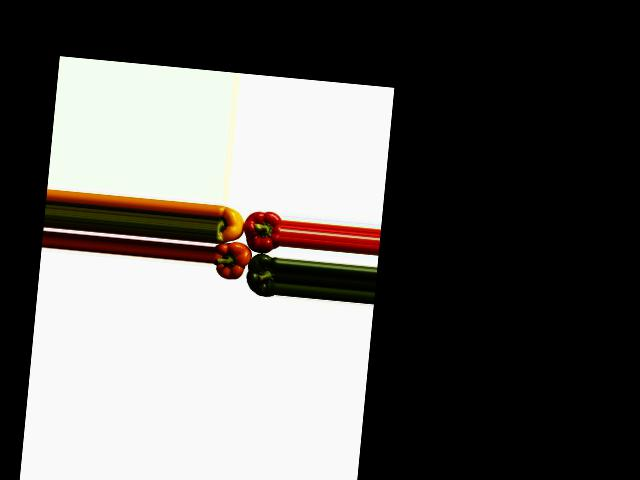bell_pepper: (214, 204, 247, 247)
